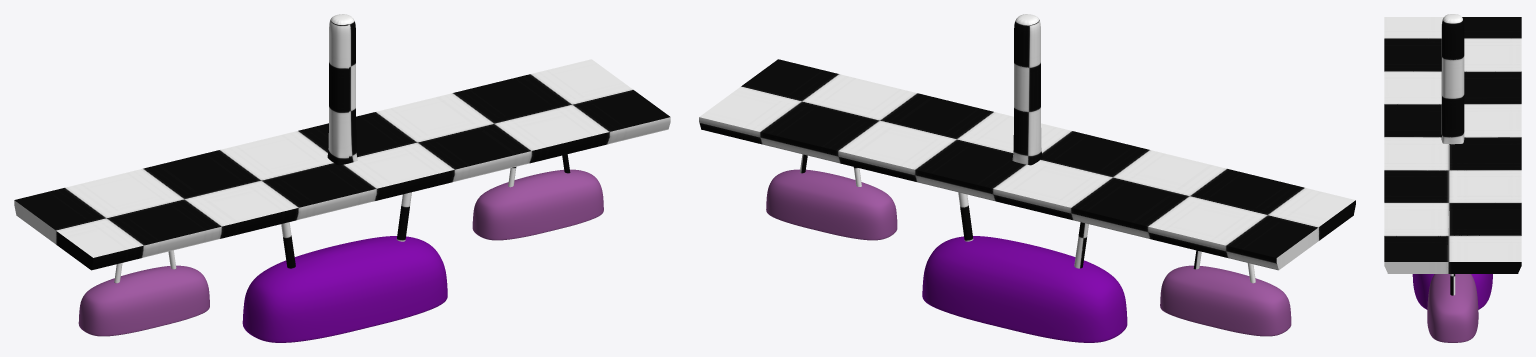
File: dining-lamp.fbx
3 renders of one model, left to right at view 1: azimuth 30°, elevation 25°; view 2: azimuth 150°, elevation 25°; view 3: azimuth 270°, elevation 25°, orthographic. The views are drawn at different scales.
Parts seen in each view (by area): view 1: base, big, little_1, little_2, vertical_wall_strip, connector; view 2: base, big, little_1, little_2, vertical_wall_strip, connector; view 3: base, little_1, vertical_wall_strip, big, connector.
Boxes of the visible parts, <box> form: base: <box>14,59,670,270</box>; big: <box>242,236,447,342</box>; little_1: <box>472,169,603,240</box>; little_2: <box>78,265,209,336</box>; vertical_wall_strip: <box>327,14,357,165</box>; connector: <box>114,154,570,283</box>; base: <box>699,59,1355,270</box>; big: <box>922,236,1127,342</box>; little_1: <box>766,169,897,240</box>; little_2: <box>1160,265,1291,336</box>; vertical_wall_strip: <box>1012,14,1042,165</box>; connector: <box>799,154,1255,283</box>; base: <box>1384,17,1521,273</box>; little_1: <box>1427,274,1478,342</box>; vertical_wall_strip: <box>1441,14,1464,144</box>; big: <box>1412,274,1492,309</box>; connector: <box>1450,274,1455,295</box>.
Bounding box in the file's own units: 1.28 × 0.6275 × 0.3048.
4 materials, 1 textured.
